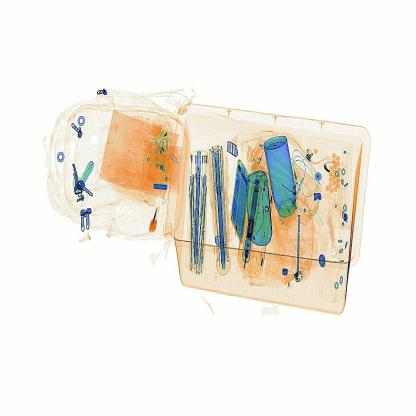wrench: (143, 206, 162, 242)
